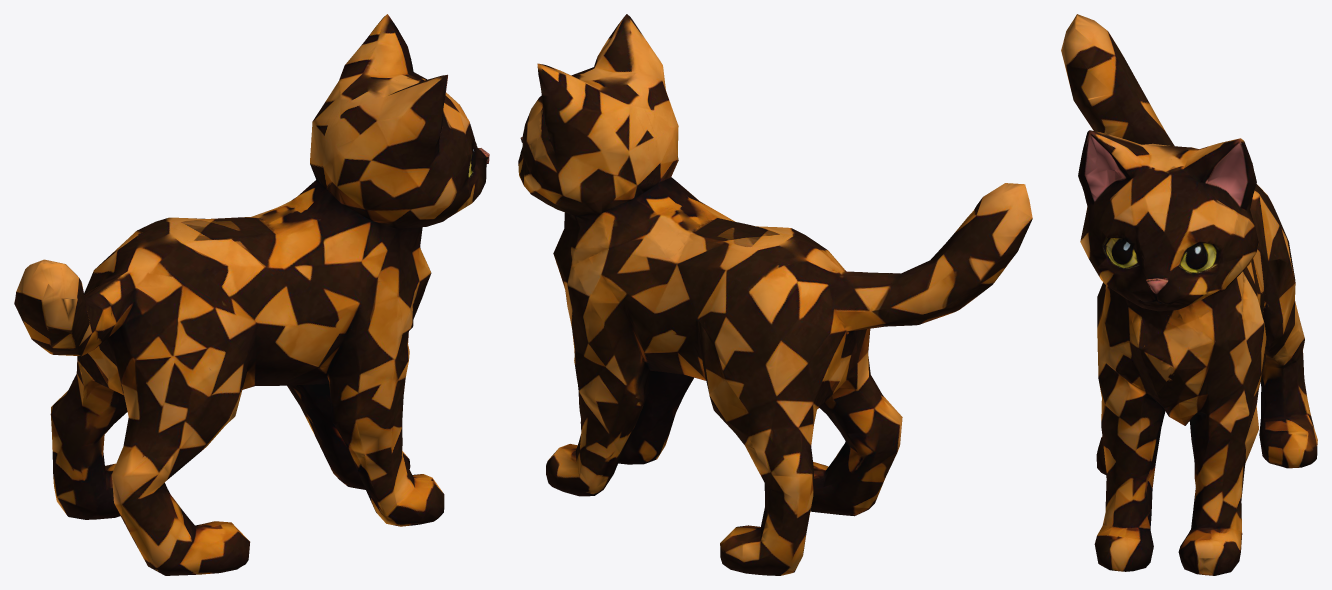
The model's file is AMBERDROP.glb.
3 renders of one model, left to right at view 1: azimuth 30°, elevation 25°; view 2: azimuth 150°, elevation 25°; view 3: azimuth 270°, elevation 25°, orthographic. The views are drawn at different scales.
Parts seen in each view (by area): view 1: material; view 2: material; view 3: material.
Part boxes in pixels (<box>): material: <box>14,14,489,575</box>; material: <box>518,14,1032,575</box>; material: <box>1061,14,1317,575</box>.
Size of the model in its own units: 1.17 by 1 by 0.5303.
Materials: 1 (1 with a texture image).
